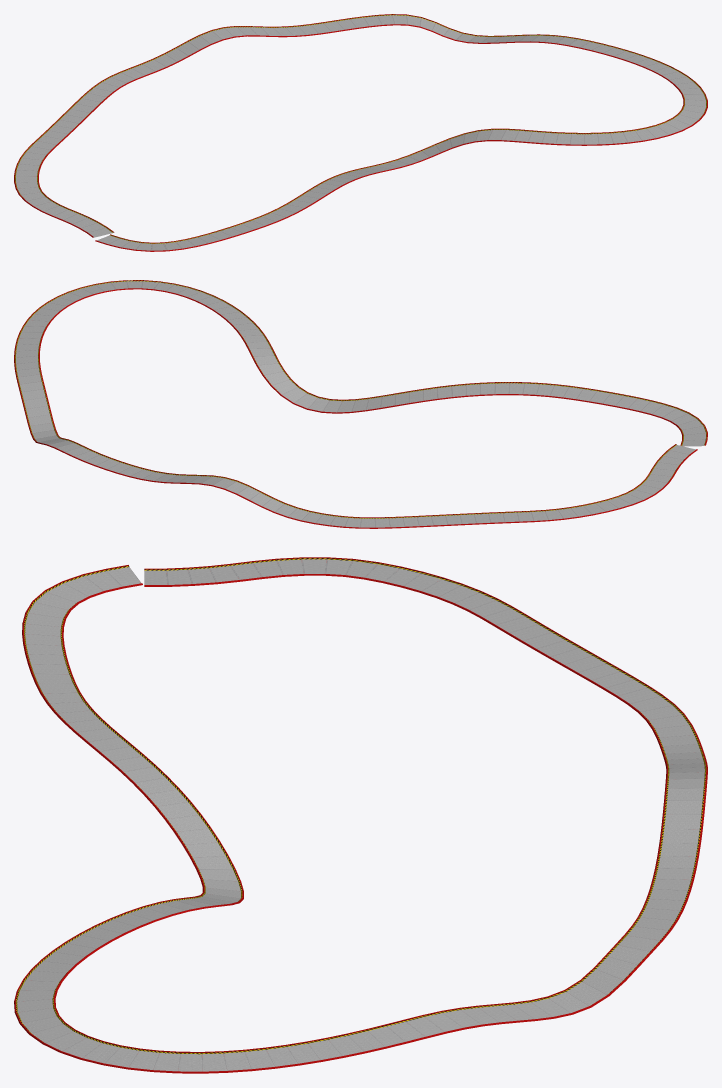
Rendered from Awesome Road.fbx.
3 views of the same model, one above another, from view 1: azimuth 30°, elevation 25°; view 2: azimuth 150°, elevation 25°; view 3: azimuth 270°, elevation 25° (orthographic). The views are drawn at different scales.
Parts seen in each view (by area): view 1: Road Demo 2; view 2: Road Demo 2; view 3: Road Demo 2.
Part boxes in pixels (x1,y1,x2,y2): Road Demo 2: (14,14,707,251); Road Demo 2: (14,280,707,528); Road Demo 2: (14,557,707,1073).
Size of the model in its own units: 34339 by 2097 by 19602.
Materials: 1 (1 with a texture image).
